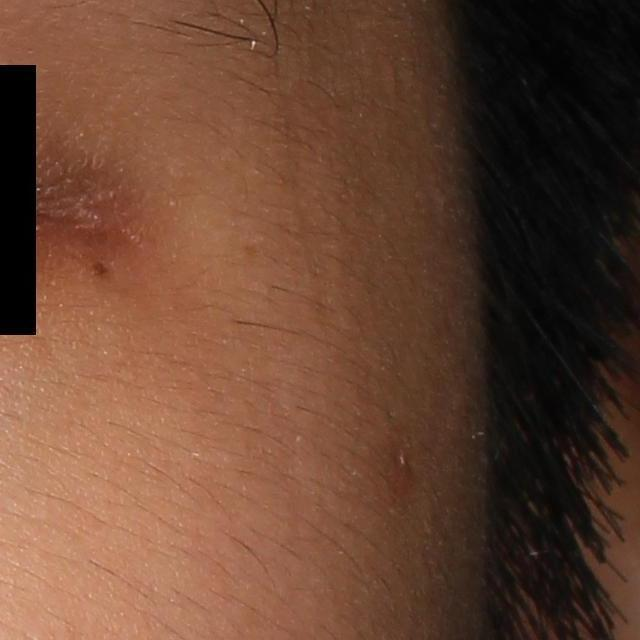nevus: (86, 258, 110, 278)
